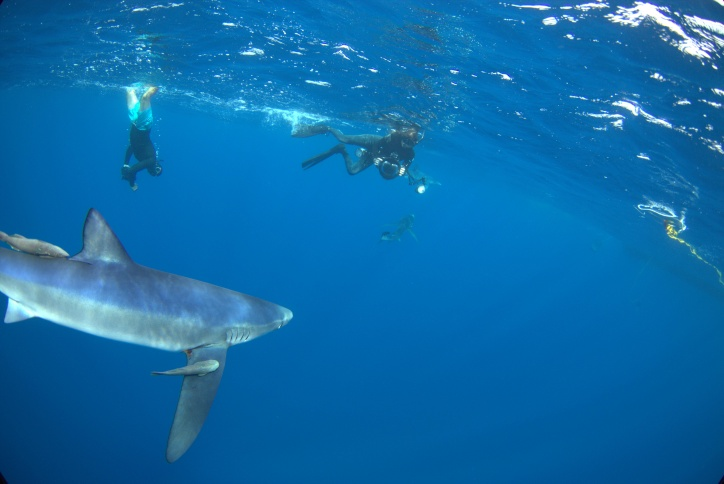Azul: (1, 197, 321, 472)
